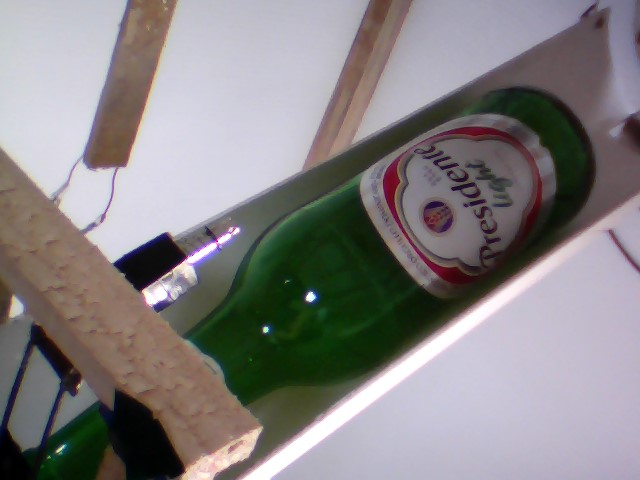vidrio: (173, 81, 603, 410)
